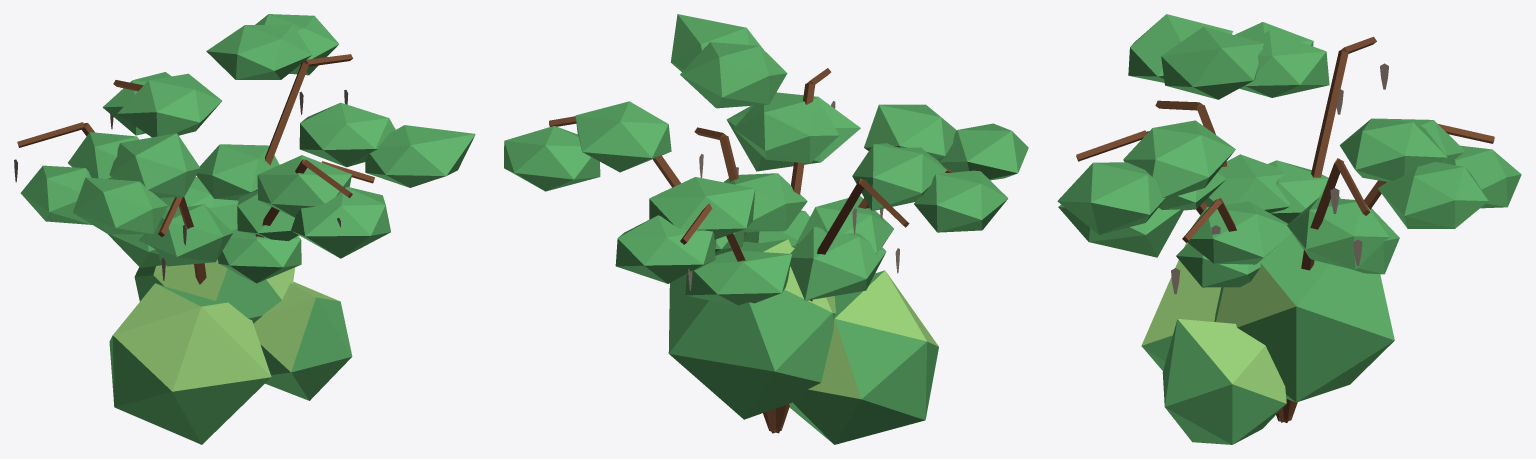
File: berry_bush_harvested.glb
3 renders of one model, left to right at view 1: azimuth 30°, elevation 25°; view 2: azimuth 150°, elevation 25°; view 3: azimuth 270°, elevation 25°, orthographic. The views are drawn at different scales.
Visible parts, largest first — view 1: berry_bush_harvested.001; view 2: berry_bush_harvested.001; view 3: berry_bush_harvested.001.
Part boxes in pixels (bbox=[...]): berry_bush_harvested.001: bbox=[14, 14, 475, 444]; berry_bush_harvested.001: bbox=[504, 14, 1028, 444]; berry_bush_harvested.001: bbox=[1057, 14, 1521, 444].
Size of the model in its own units: 0.9639 by 0.78 by 0.9256.
